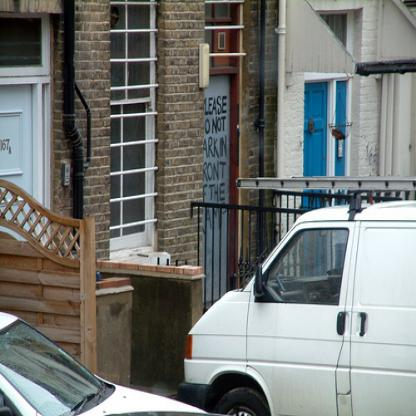car: (172, 169, 415, 415), (0, 309, 215, 415)
